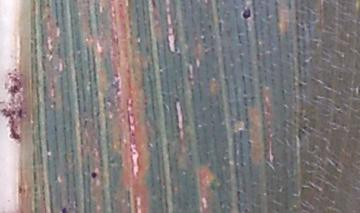tarspot: (241, 8, 252, 20), (91, 171, 98, 179), (61, 207, 68, 213)
